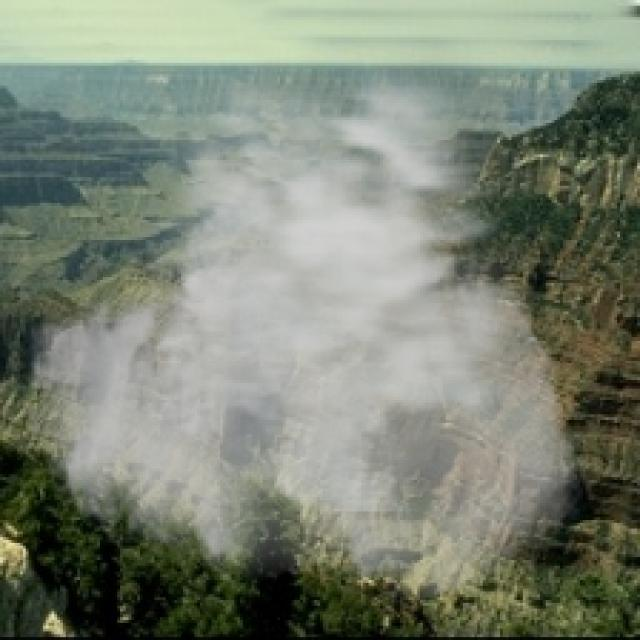Smoke: (20, 40, 589, 606)
